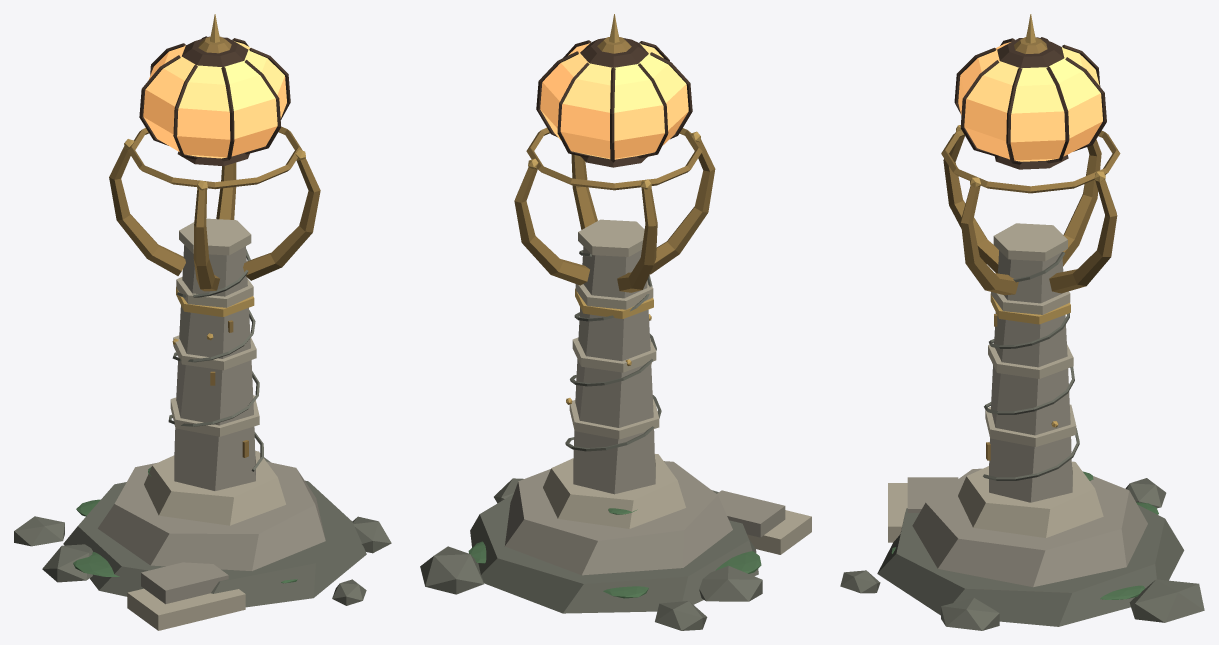
The model's file is beacon_lantern.glb.
The picture shows the model from 3 angles, left to right: view 1: azimuth 30°, elevation 25°; view 2: azimuth 150°, elevation 25°; view 3: azimuth 270°, elevation 25°; orthographic projection. The views are drawn at different scales.
Visible parts, largest first — view 1: beacon_lantern; view 2: beacon_lantern; view 3: beacon_lantern.
Boxes of the visible parts, bbox=[...] form: beacon_lantern: bbox=[14, 14, 391, 630]; beacon_lantern: bbox=[420, 14, 811, 630]; beacon_lantern: bbox=[840, 14, 1204, 630].
Bounding box in the file's own units: 3.2 × 5.5 × 3.32.
